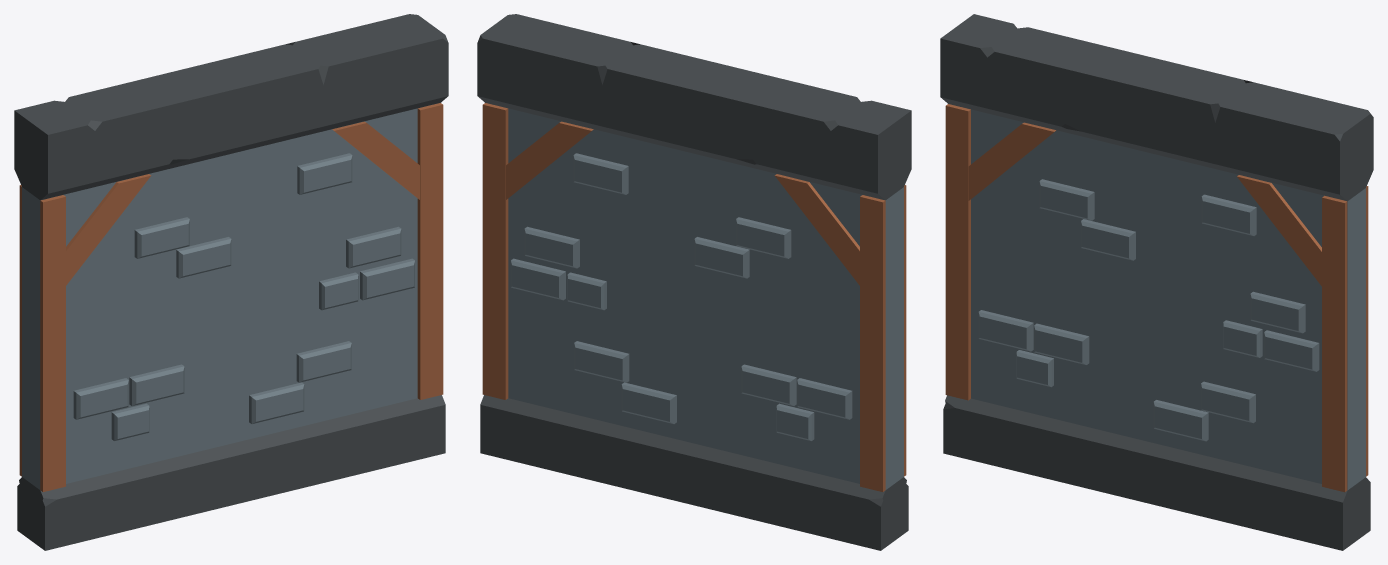
File: wall_2_1.glb
The picture shows the model from 3 angles, left to right: view 1: azimuth 30°, elevation 25°; view 2: azimuth 150°, elevation 25°; view 3: azimuth 330°, elevation 25°; orthographic projection.
Visible parts, largest first — view 1: wall_2_1; view 2: wall_2_1; view 3: wall_2_1.
Part boxes in pixels (x1,y1,x2,y2): wall_2_1: (14, 14, 448, 550); wall_2_1: (477, 14, 911, 550); wall_2_1: (940, 14, 1373, 550).
Size of the model in its own units: 1.53 by 1.53 by 0.2228.
1 material, 1 textured.
